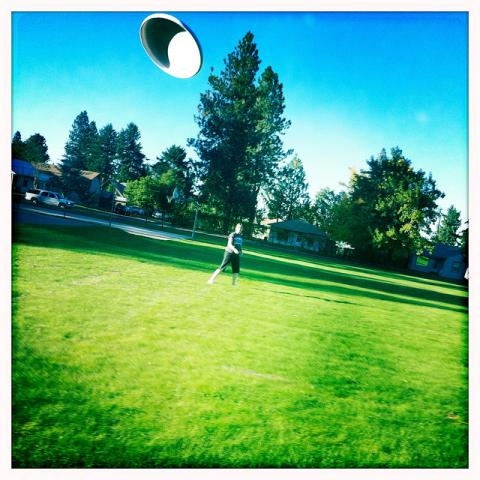car: (25, 188, 75, 209), (116, 205, 133, 215), (130, 206, 144, 215), (154, 213, 168, 219)
